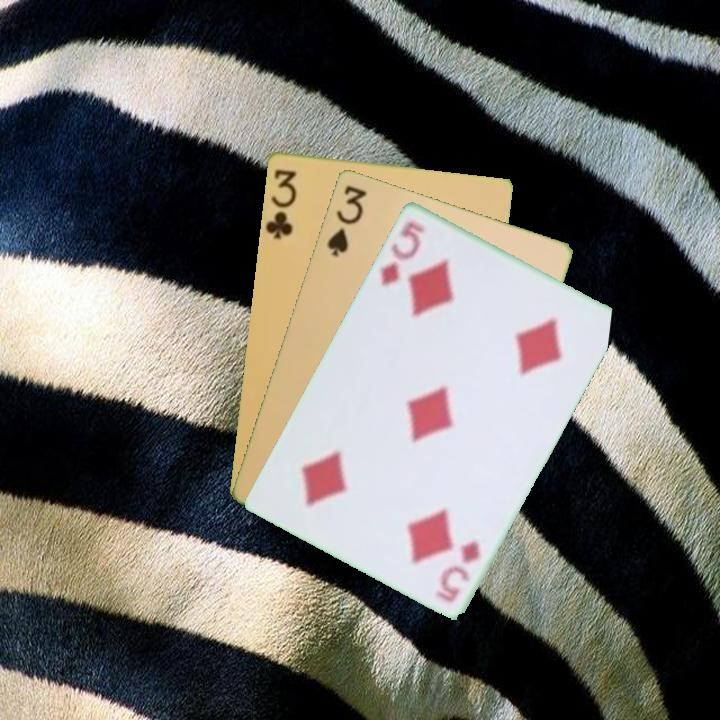3c: (262, 165, 299, 242)
3s: (323, 181, 369, 259)
5d: (376, 217, 427, 288), (432, 536, 483, 605)
